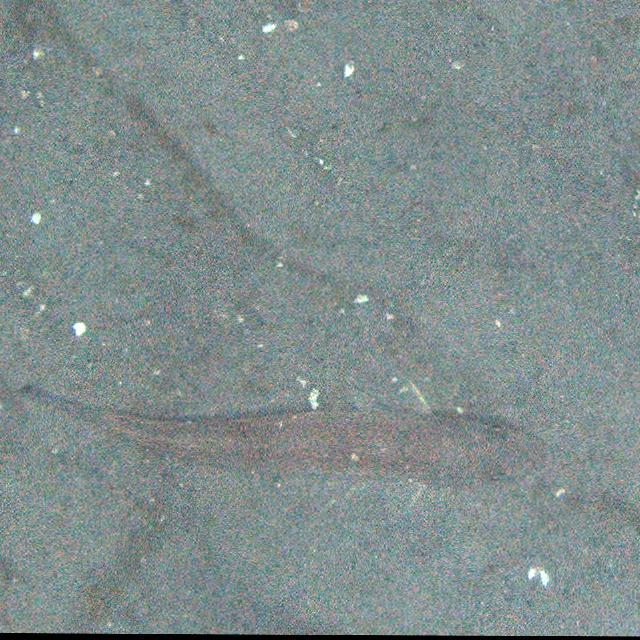roundfish: (23, 380, 549, 490)
